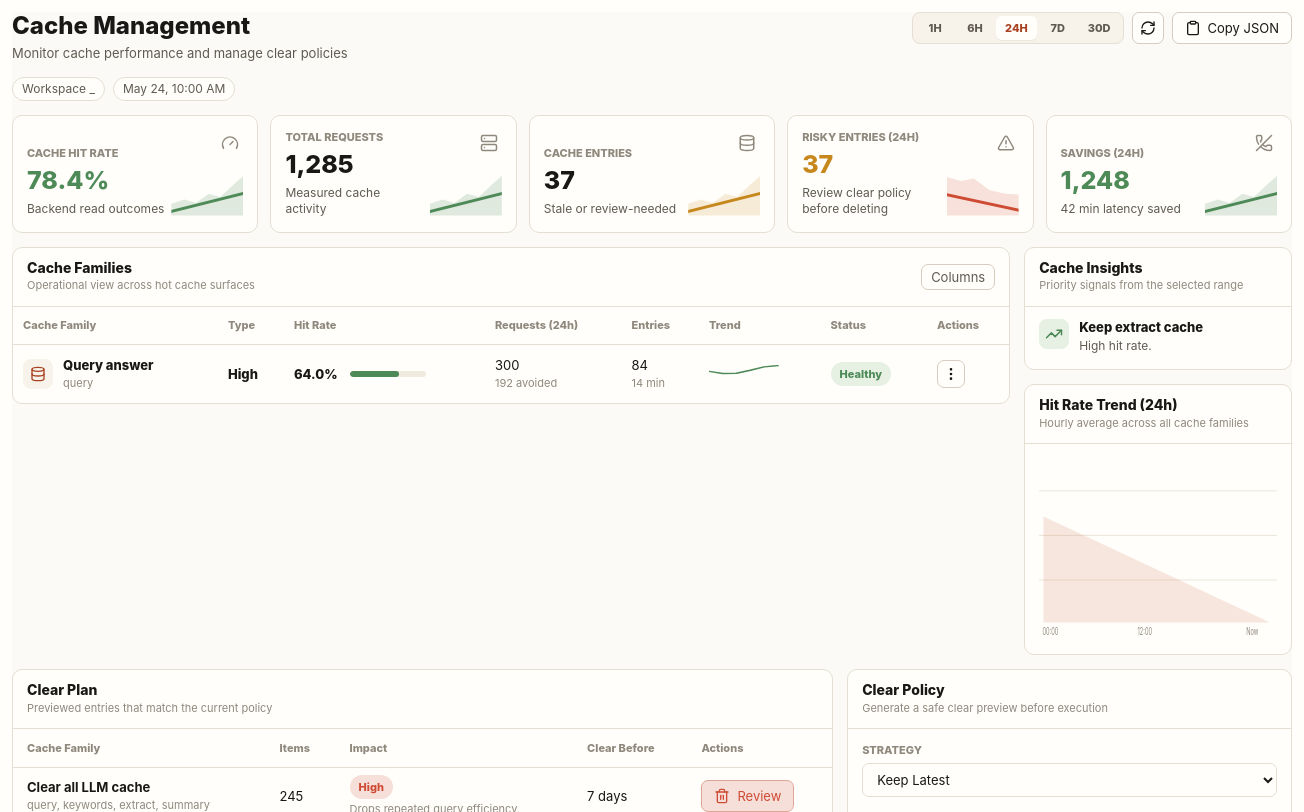
Test: CacheManagementWorkbench › reports copy failure when Clipboard API is unavailable
Expected: the text "Clear all LLM cache" is shown, [27,780,150,796]
Step 1. Click the button "Copy JSON" → (1232, 28), box [1172,12,1292,44]
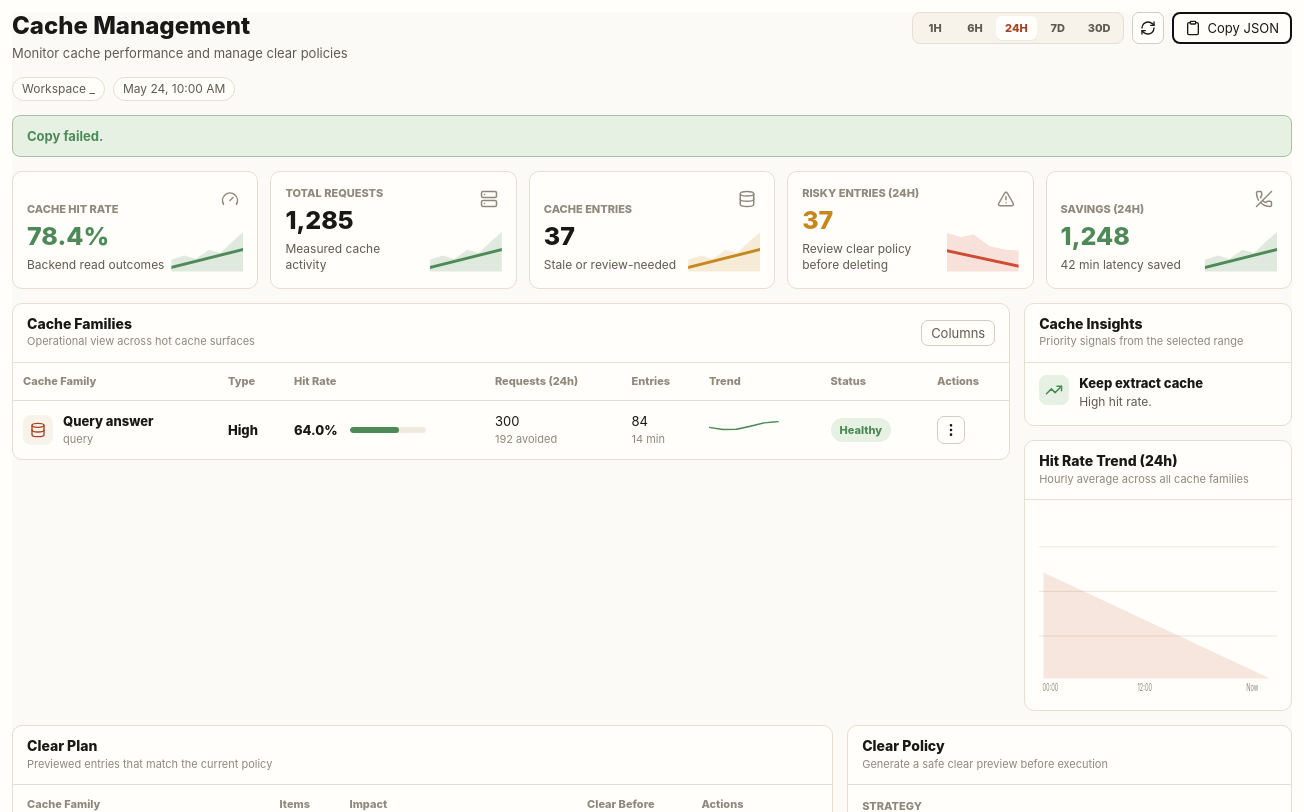
Result: the text "Copy failed." is shown at [12,115,1292,157]
